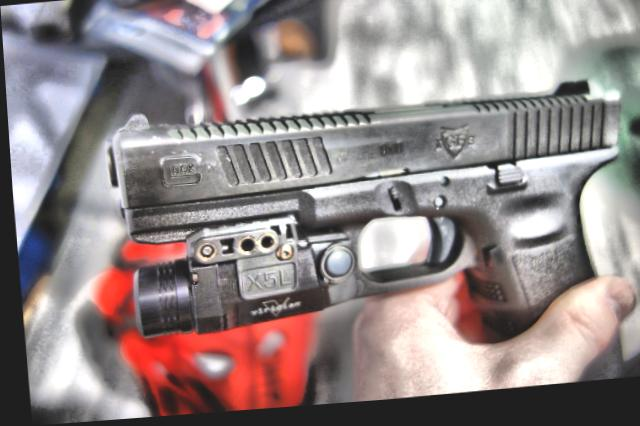pistol: (98, 79, 640, 421)
